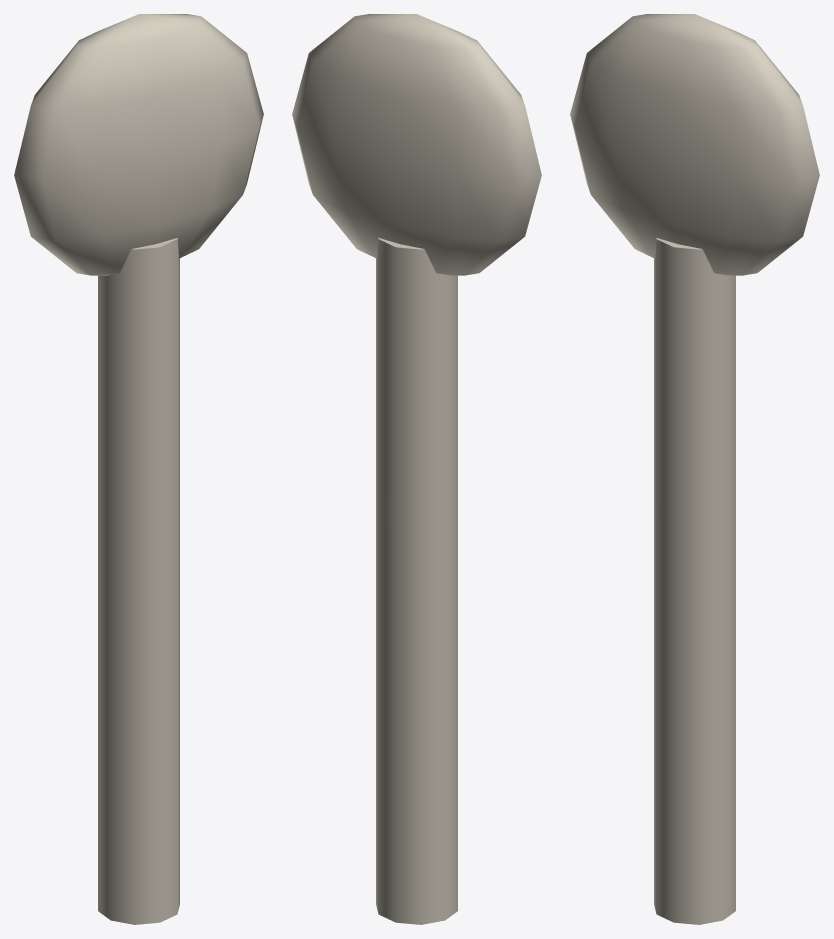
File: screw.glb
3 views of the same model, side by side, from view 1: azimuth 30°, elevation 25°; view 2: azimuth 150°, elevation 25°; view 3: azimuth 330°, elevation 25° (orthographic).
Parts seen in each view (by area): view 1: screw; view 2: screw; view 3: screw.
Part boxes in pixels (<box>): screw: <box>14,14,263,924</box>; screw: <box>292,14,541,924</box>; screw: <box>570,14,819,924</box>.
Bounding box in the file's own units: 0.108 × 0.369 × 0.036.
